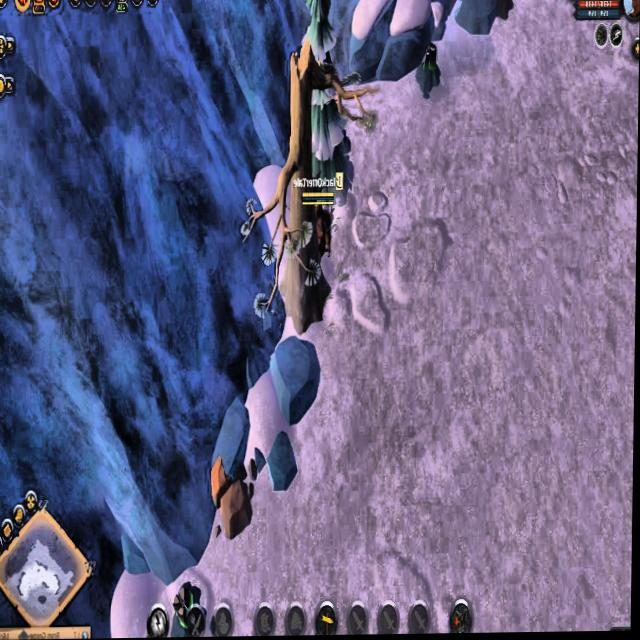limestone: (208, 447, 262, 540)
tinore: (168, 578, 209, 638), (414, 39, 447, 101)
